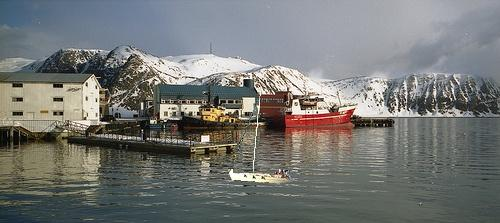tampered: (229, 88, 292, 183)
